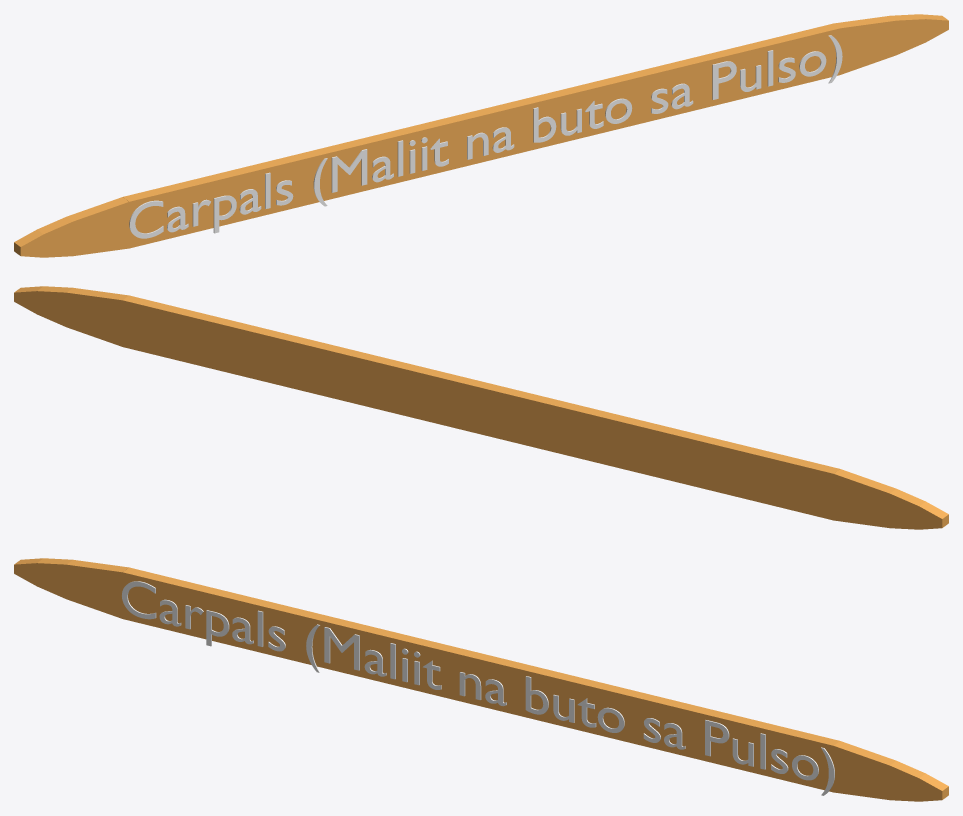
File: txtCarpals.fbx
The picture shows the model from 3 angles, top to bottom: view 1: azimuth 30°, elevation 25°; view 2: azimuth 150°, elevation 25°; view 3: azimuth 330°, elevation 25°; orthographic projection.
Visible parts, largest first — view 1: TagContainer.060, Text.061; view 2: TagContainer.060; view 3: TagContainer.060, Text.061.
Boxes of the visible parts, <box> form: TagContainer.060: <box>14,14,948,257</box>; Text.061: <box>129,35,842,238</box>; TagContainer.060: <box>14,286,948,529</box>; TagContainer.060: <box>14,558,948,801</box>; Text.061: <box>122,581,834,795</box>.
Size of the model in its own units: 859 by 45.81 by 11.79.
